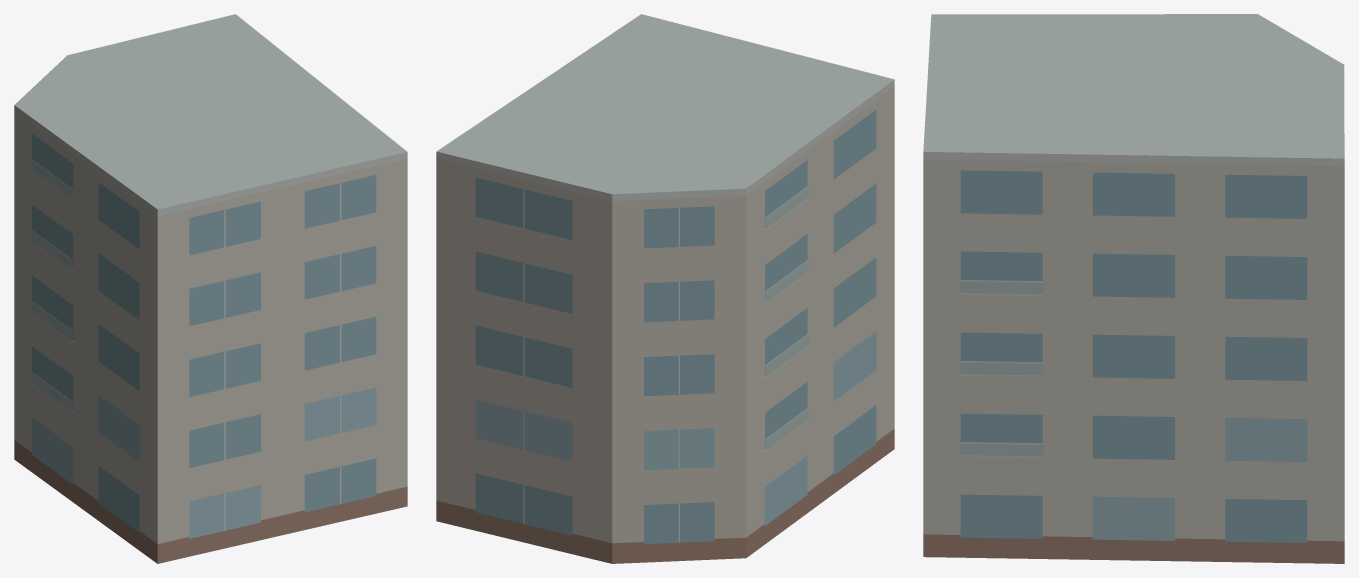
Rendered from survey-upis-32743374.glb.
3 views of the same model, side by side, from view 1: azimuth 30°, elevation 25°; view 2: azimuth 150°, elevation 25°; view 3: azimuth 270°, elevation 25° (orthographic). The views are drawn at different scales.
Visible parts, largest first — view 1: survey-upis-32743374.tmp; view 2: survey-upis-32743374.tmp; view 3: survey-upis-32743374.tmp.
Boxes of the visible parts, box(x1,y1,x2,y2) form: survey-upis-32743374.tmp: box(14, 14, 407, 563); survey-upis-32743374.tmp: box(436, 14, 894, 563); survey-upis-32743374.tmp: box(923, 14, 1344, 563).
Bounding box in the file's own units: 9.84 × 12.8 × 12.07.
